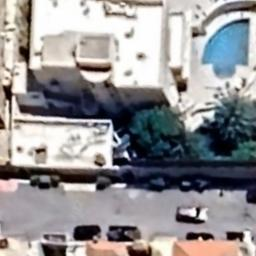sedan: (172, 204, 213, 224)
